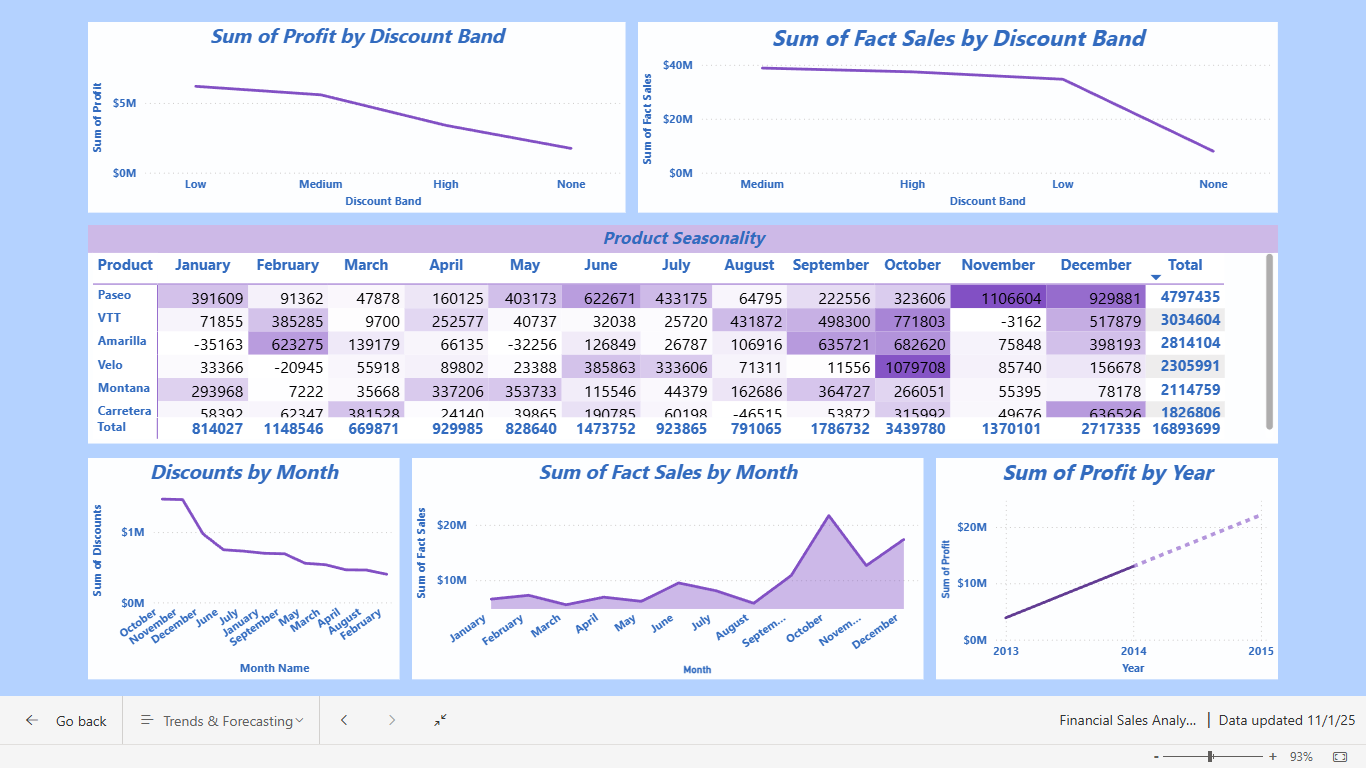

The page's visual inventory and layout, read from the dashboard file:
{"tool":"powerbi","page":{"name":"Trends & Forecasting","canvas":[1280,720],"ordinal":2},"visuals":[{"type":"areaChart","fields":{"Category":["Financials.Date.Variation.Date Hierarchy.Month"],"Y":["Sum(Financials.Fact Sales)"]},"box":[348.2,470.2,549.6,249.8],"z":0},{"type":"lineChart","fields":{"Category":["Financials. Discount Band "],"Y":["Sum(Financials.Fact Sales)"]},"box":[592.2,13.2,687.7,217.5],"z":1000},{"type":"lineChart","fields":{"Category":["Financials. Discount Band "],"Y":["Sum(Financials.Profit)"]},"box":[0,13.2,578.9,217.5],"z":2000},{"type":"pivotTable","title":"Product Seasonality","fields":{"Rows":["Financials. Product "],"Columns":["Financials. Month Name "],"Values":["Sum(Financials.Profit)"]},"box":[0,241,1279.8,217.5],"z":4000},{"type":"lineChart","title":"Discounts  by  Month ","fields":{"Category":["Financials. Month Name "],"Y":["Sum(Financials. Discounts )"]},"box":[0,470.2,335,249.8],"z":5000},{"type":"lineChart","fields":{"Y":["Sum(Financials.Profit)"],"Category":["Financials.Date.Variation.Date Hierarchy.Year","Financials.Date.Variation.Date Hierarchy.Quarter","Financials.Date.Variation.Date Hierarchy.Month","Financials.Date.Variation.Date Hierarchy.Day"]},"box":[911,470.2,368.8,249.8],"z":6000}]}

Visuals, with their boxes on the page's 1280x720 design canvas (x1, y1, x2, y2). These are canvas units, not pixel positions in the 1366x768 screenshot, which may show the page scaled, cropped or inside an application window:
areaChart - Financials.Date.Variation.Date Hierarchy.Month x Sum(Financials.Fact Sales): box=[348, 470, 898, 720]
lineChart - Financials. Discount Band  x Sum(Financials.Fact Sales): box=[592, 13, 1280, 231]
lineChart - Financials. Discount Band  x Sum(Financials.Profit): box=[0, 13, 579, 231]
"Product Seasonality" pivotTable: box=[0, 241, 1280, 458]
"Discounts  by  Month " lineChart: box=[0, 470, 335, 720]
lineChart - Sum(Financials.Profit) x Financials.Date.Variation.Date Hierarchy.Year: box=[911, 470, 1280, 720]
